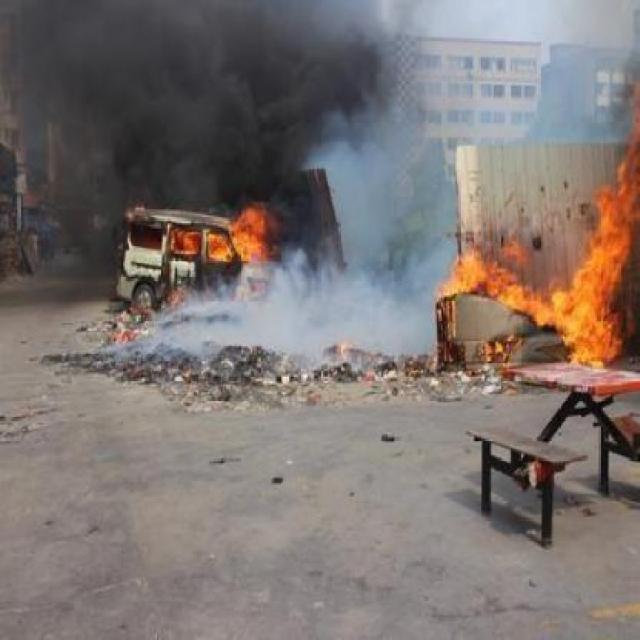Fire: (572, 85, 640, 368), (439, 240, 569, 343), (176, 207, 281, 269)
